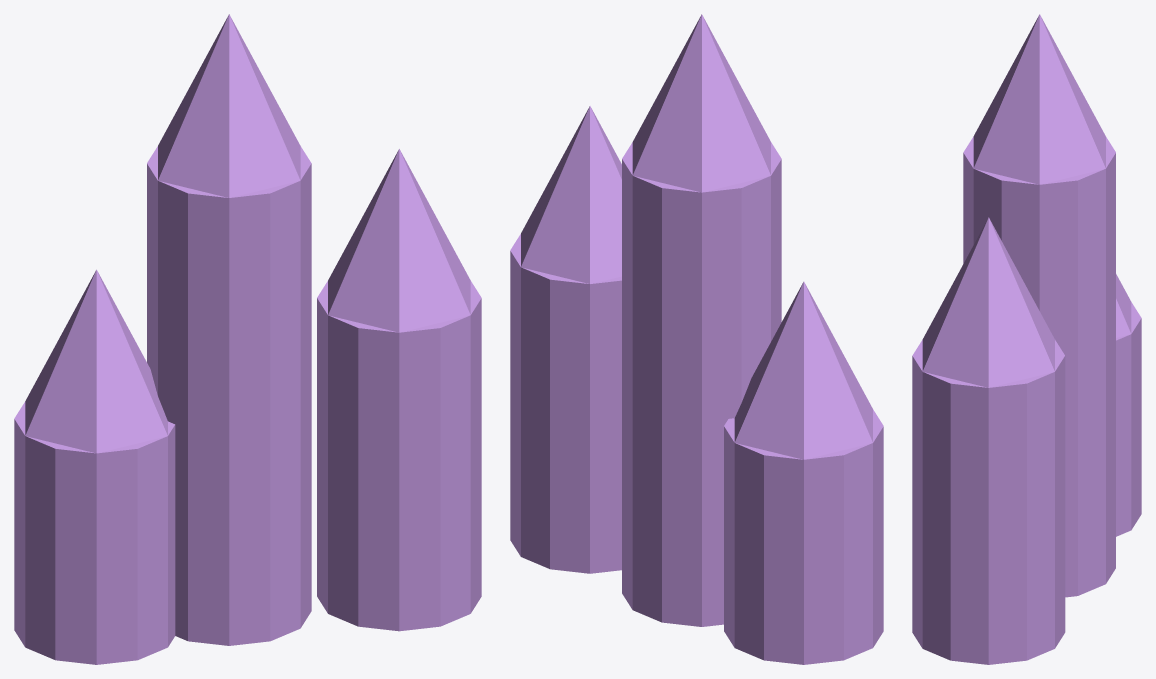
File: violet_crystals.glb
The picture shows the model from 3 angles, left to right: view 1: azimuth 30°, elevation 25°; view 2: azimuth 150°, elevation 25°; view 3: azimuth 270°, elevation 25°; orthographic projection. The views are drawn at different scales.
Parts seen in each view (by area): view 1: body (×3), tip (×3); view 2: body (×3), tip (×3); view 3: body (×3), tip (×3).
Part boxes in pixels (left/top/right/bottom): body (×3): left=14, top=146, right=481, bottom=664; tip (×3): left=25, top=14, right=470, bottom=453; body (×3): left=510, top=142, right=883, bottom=664; tip (×3): left=521, top=14, right=872, bottom=459; body (×3): left=912, top=136, right=1141, bottom=664; tip (×3): left=922, top=14, right=1131, bottom=387.
Bounding box in the file's own units: 1.7 × 2.4 × 0.9.
